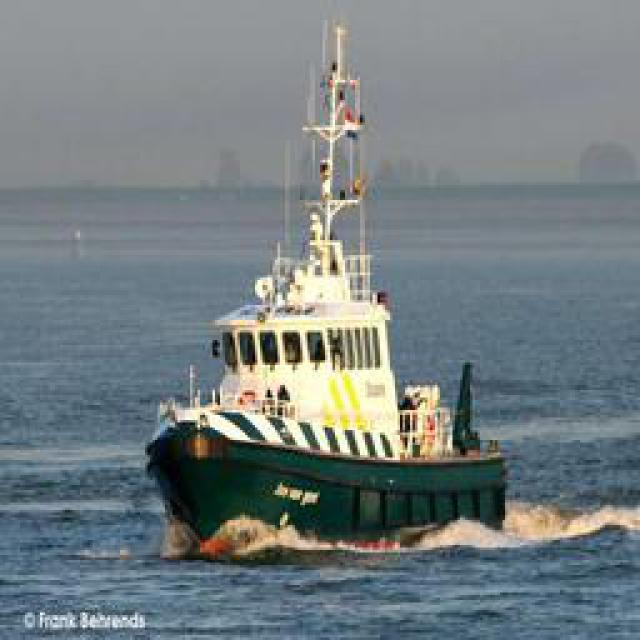Ship: (150, 8, 513, 563)
